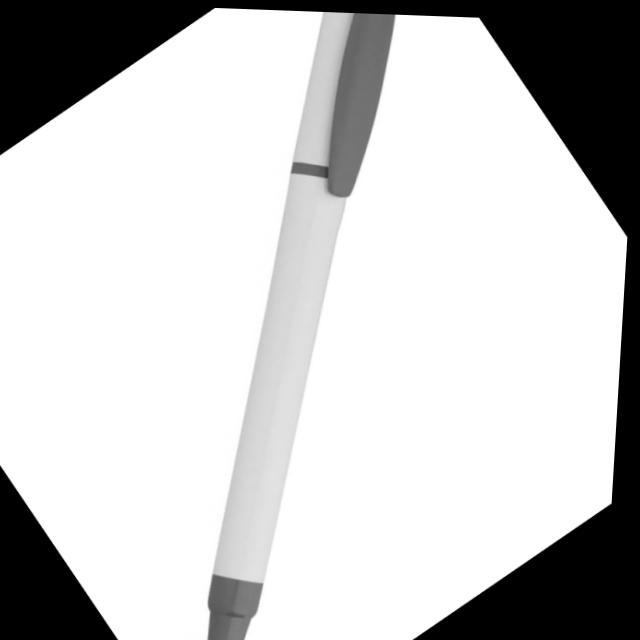pencil: (179, 0, 379, 640)
